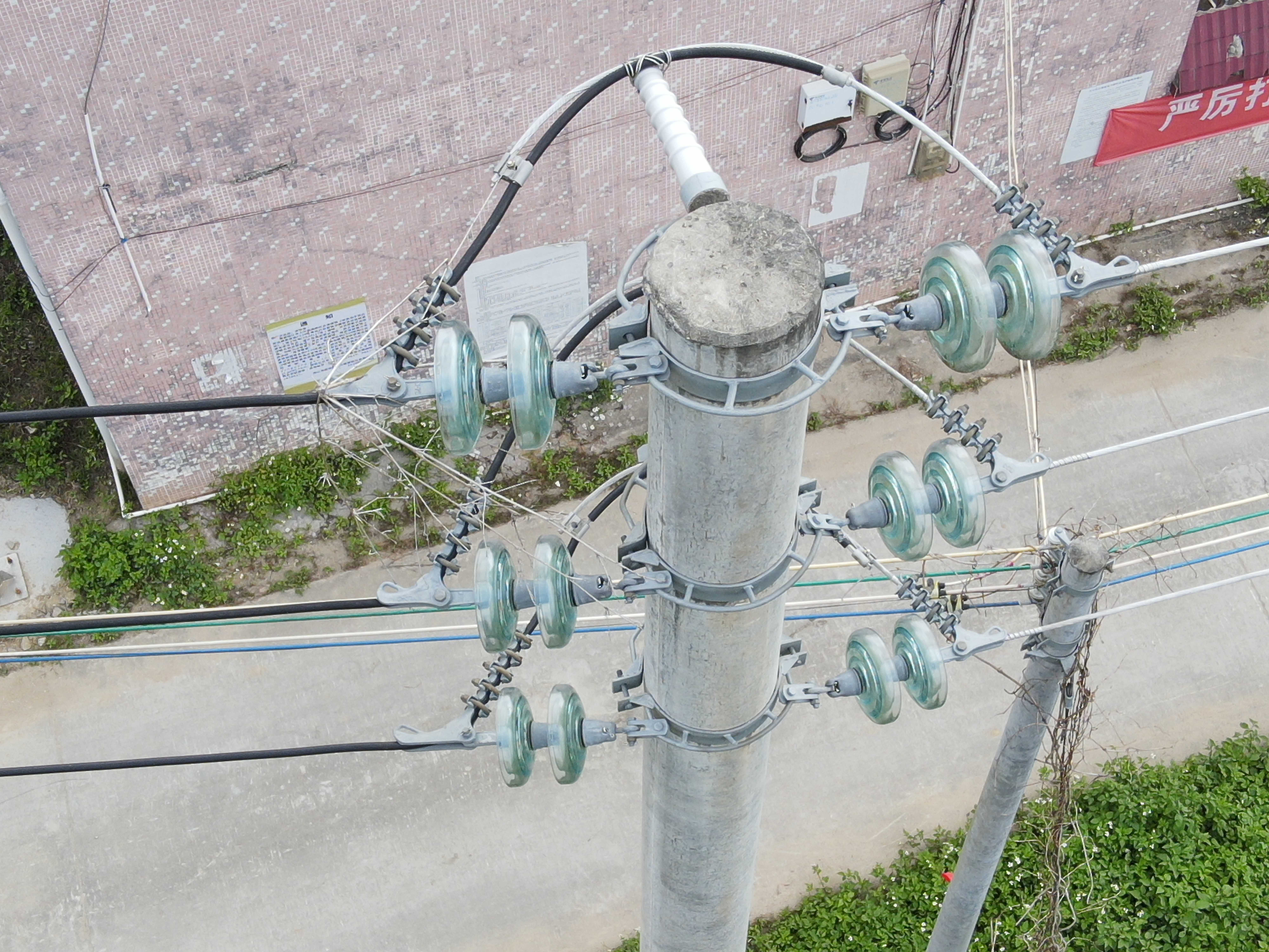异物: (840, 461, 1269, 952), (253, 174, 659, 641)
